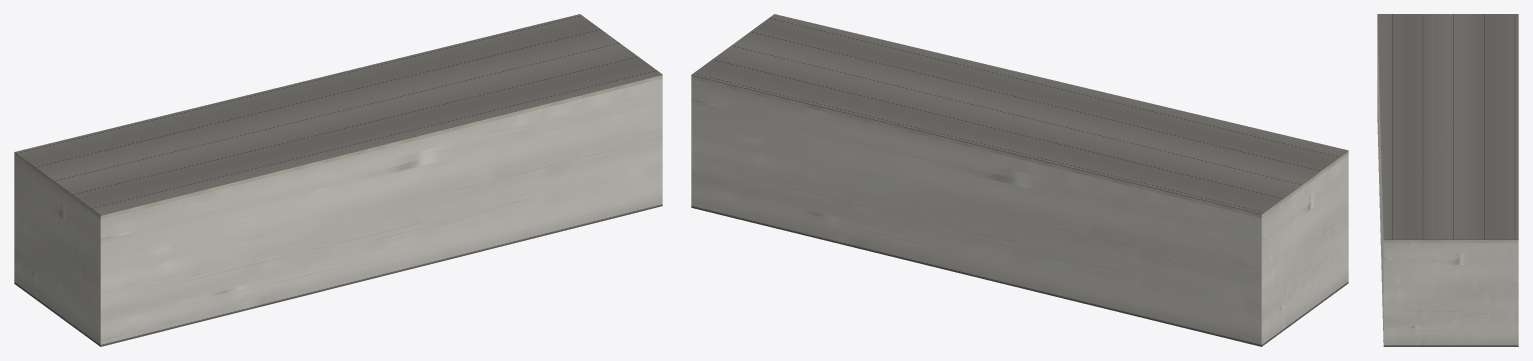
File: SM_Molo_Edificio_C_LOD2.fbx
The picture shows the model from 3 angles, left to right: view 1: azimuth 30°, elevation 25°; view 2: azimuth 150°, elevation 25°; view 3: azimuth 270°, elevation 25°; orthographic projection. The views are drawn at different scales.
Parts seen in each view (by area): view 1: SM_Molo_Edificio_C_LOD2; view 2: SM_Molo_Edificio_C_LOD2; view 3: SM_Molo_Edificio_C_LOD2.
Part boxes in pixels (left/top/right/bottom): SM_Molo_Edificio_C_LOD2: left=14, top=14, right=662, bottom=346; SM_Molo_Edificio_C_LOD2: left=691, top=14, right=1348, bottom=346; SM_Molo_Edificio_C_LOD2: left=1377, top=14, right=1518, bottom=346.
Size of the model in its own units: 1740 by 460 by 387.
1 material, 1 textured.
